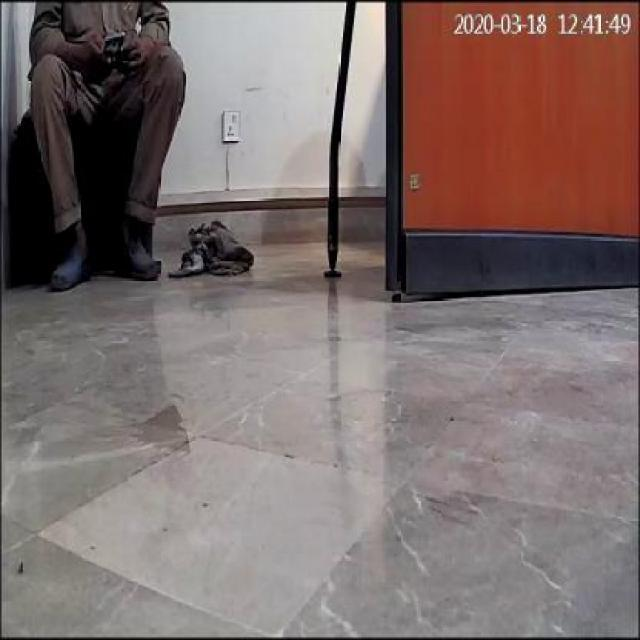spill: (142, 380, 250, 454)
